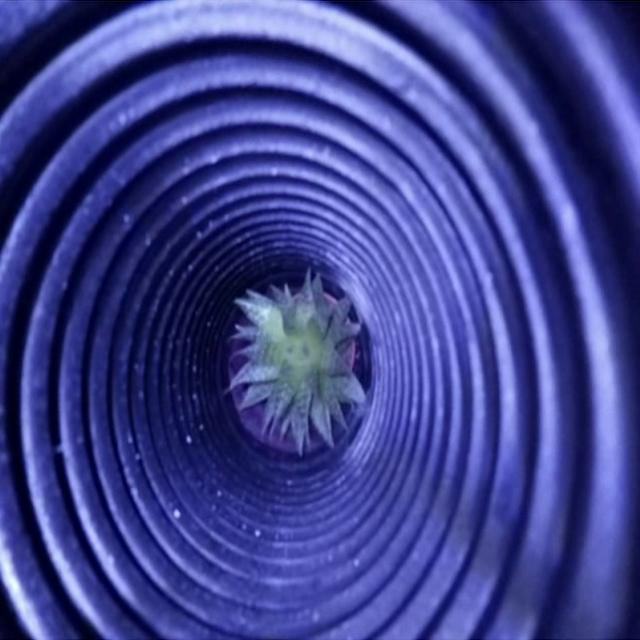leaf: (231, 275, 365, 450)
